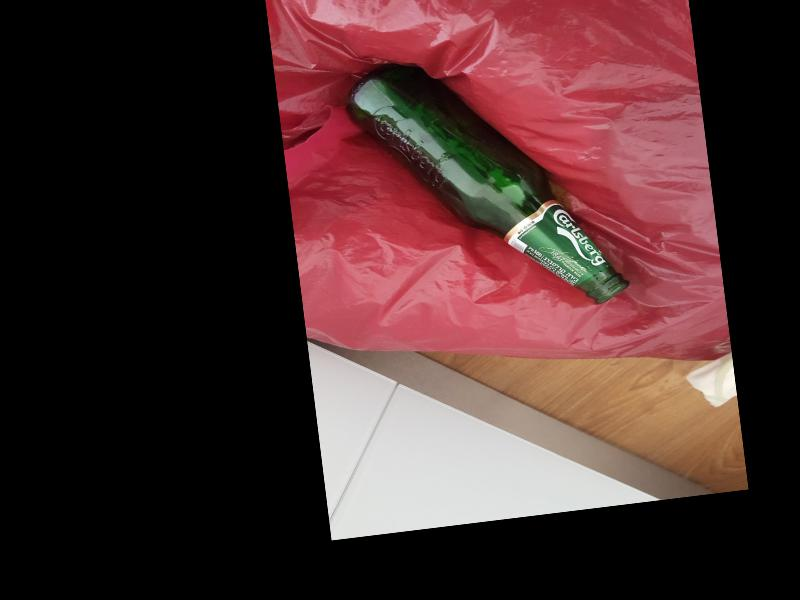Beer: (344, 39, 631, 331)
